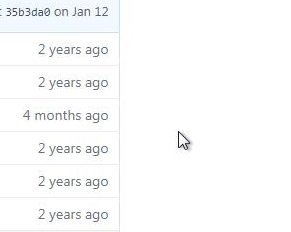cursor: (176, 129, 191, 151)
